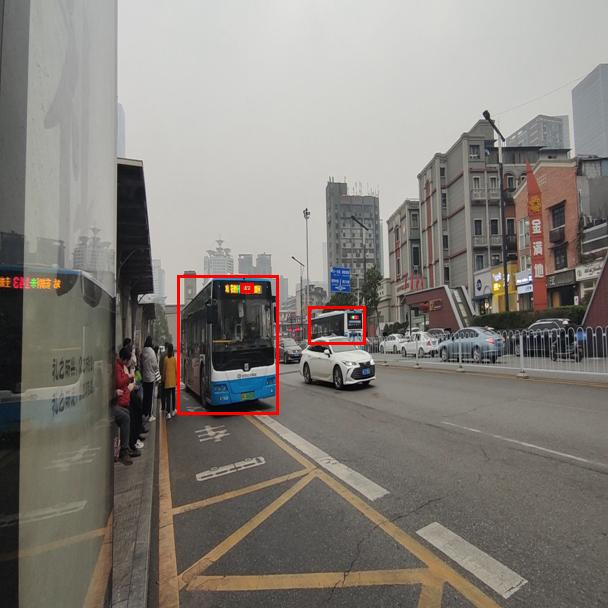bus: (177, 275, 278, 414), (308, 306, 365, 344)
screen: (240, 283, 253, 292)
